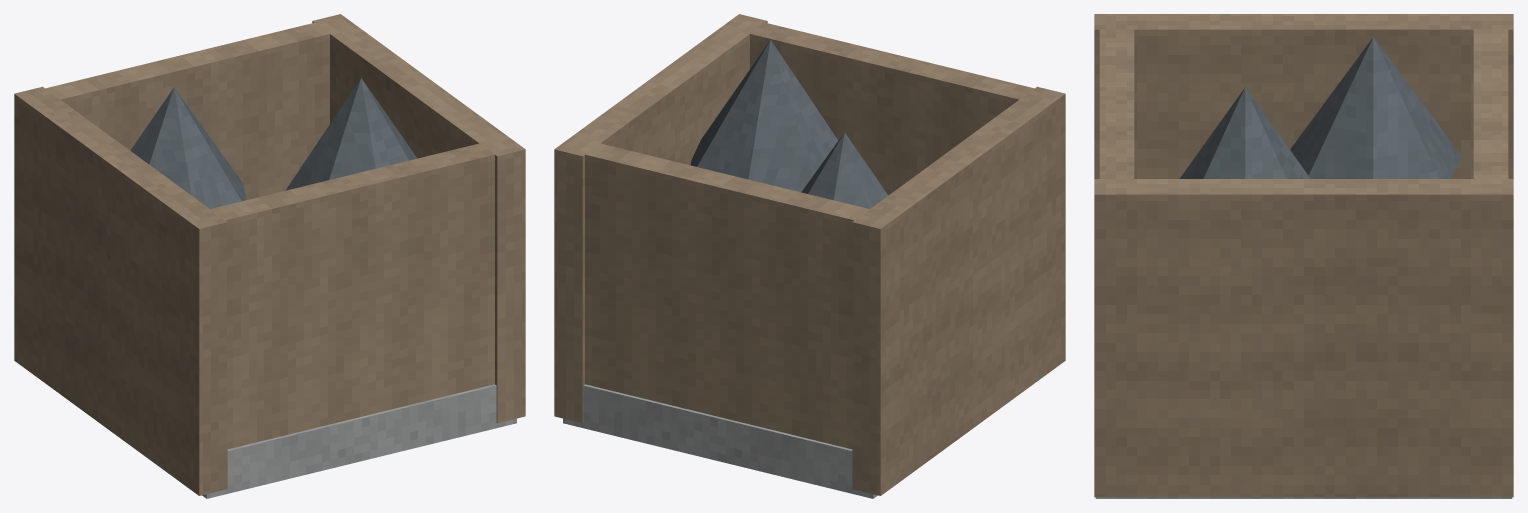
Rendered from level_blockout_rail_coal_bunker.glb.
The picture shows the model from 3 angles, left to right: view 1: azimuth 30°, elevation 25°; view 2: azimuth 150°, elevation 25°; view 3: azimuth 270°, elevation 25°; orthographic projection. The views are drawn at different scales.
Parts seen in each view (by area): view 1: level_blockout_rail_coal_bunker; view 2: level_blockout_rail_coal_bunker; view 3: level_blockout_rail_coal_bunker.
Part boxes in pixels (x1,y1,x2,y2): level_blockout_rail_coal_bunker: (14, 14, 525, 498); level_blockout_rail_coal_bunker: (554, 14, 1065, 498); level_blockout_rail_coal_bunker: (1094, 14, 1513, 498).
Bounding box in the file's own units: 1.6 × 1.5 × 1.57.
Materials: 3 (3 with a texture image).
